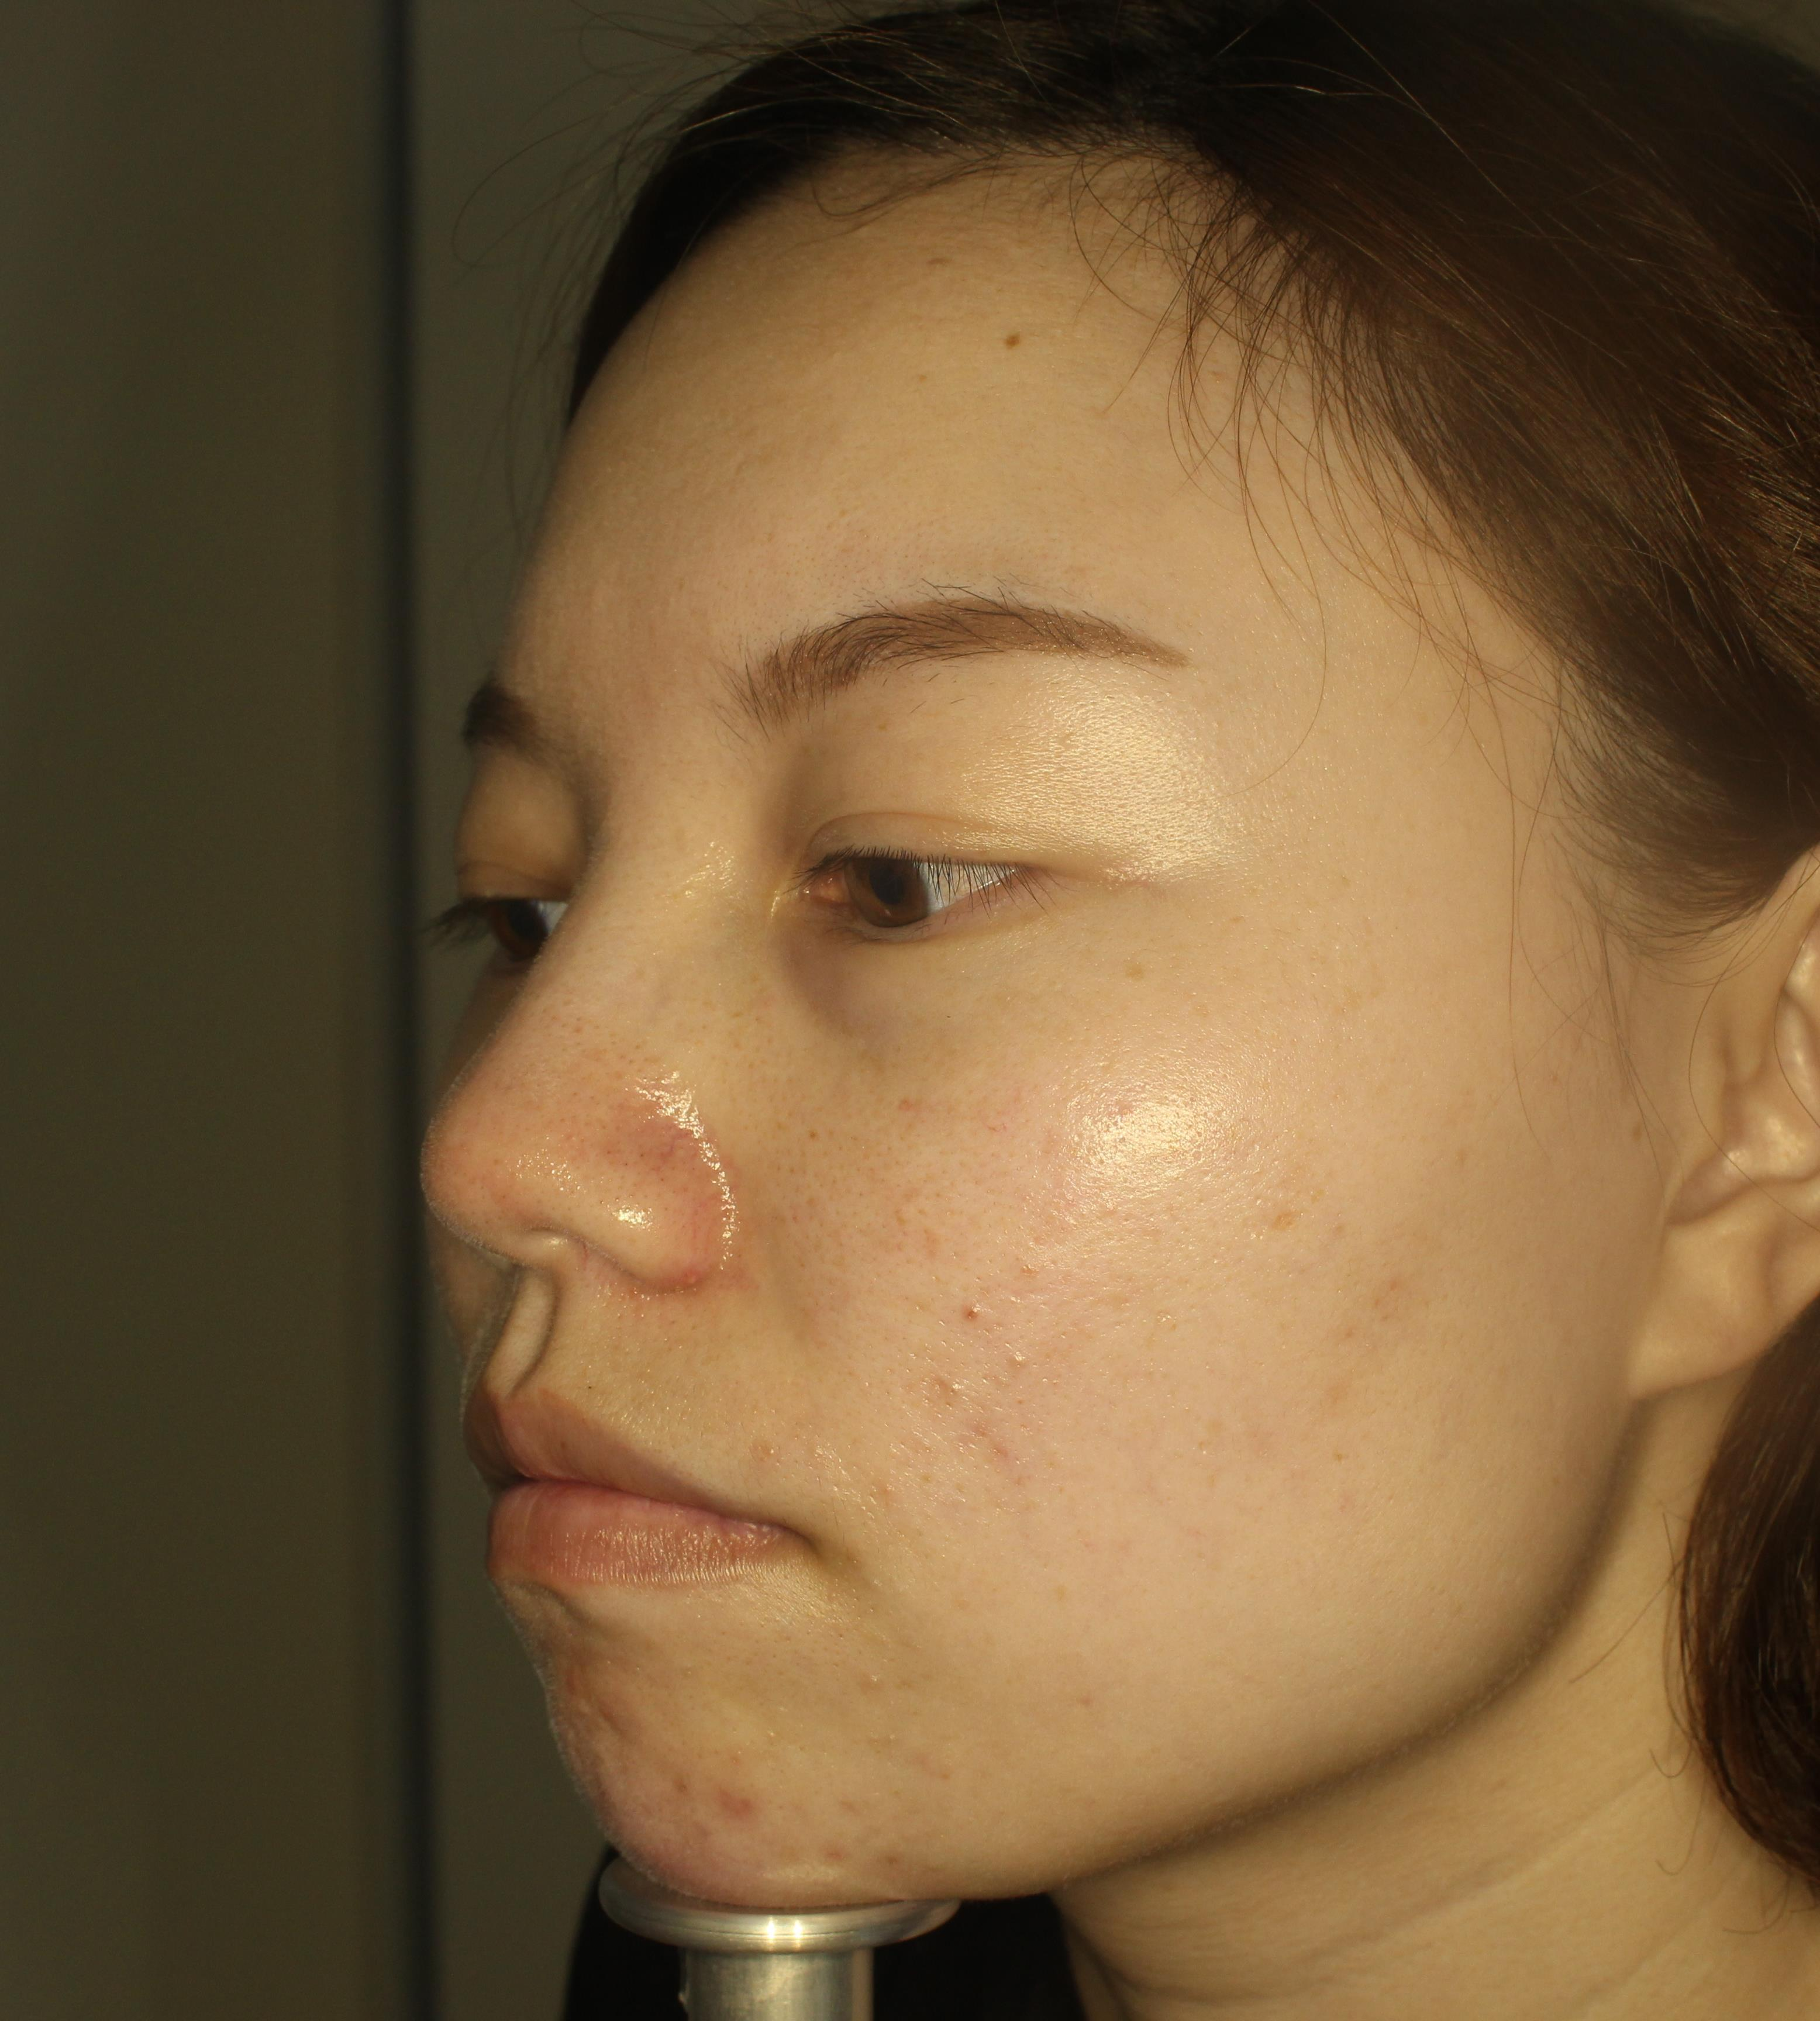fore: (543, 1661, 643, 1745), (696, 1765, 780, 1831)
